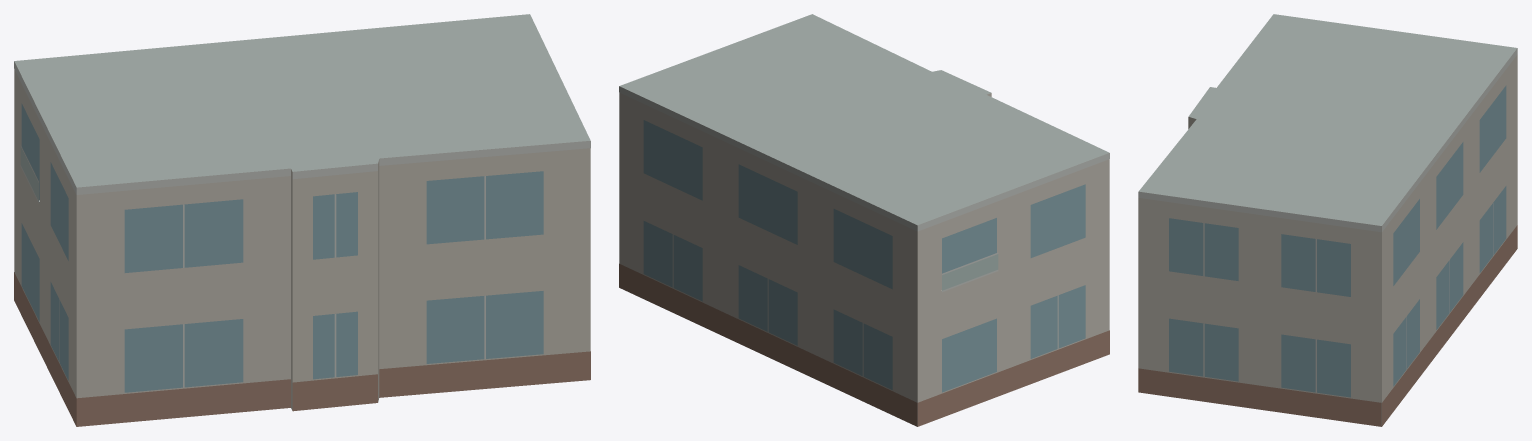
File: survey-upis-32528266.glb
3 views of the same model, side by side, from view 1: azimuth 30°, elevation 25°; view 2: azimuth 150°, elevation 25°; view 3: azimuth 270°, elevation 25° (orthographic). The views are drawn at different scales.
Parts seen in each view (by area): view 1: survey-upis-32528266.tmp; view 2: survey-upis-32528266.tmp; view 3: survey-upis-32528266.tmp.
Part boxes in pixels (box(x1,y1,x2,y2)): survey-upis-32528266.tmp: box(14, 14, 590, 426); survey-upis-32528266.tmp: box(619, 14, 1109, 426); survey-upis-32528266.tmp: box(1138, 14, 1517, 426).
Size of the model in its own units: 17.79 by 7.85 by 13.44.
